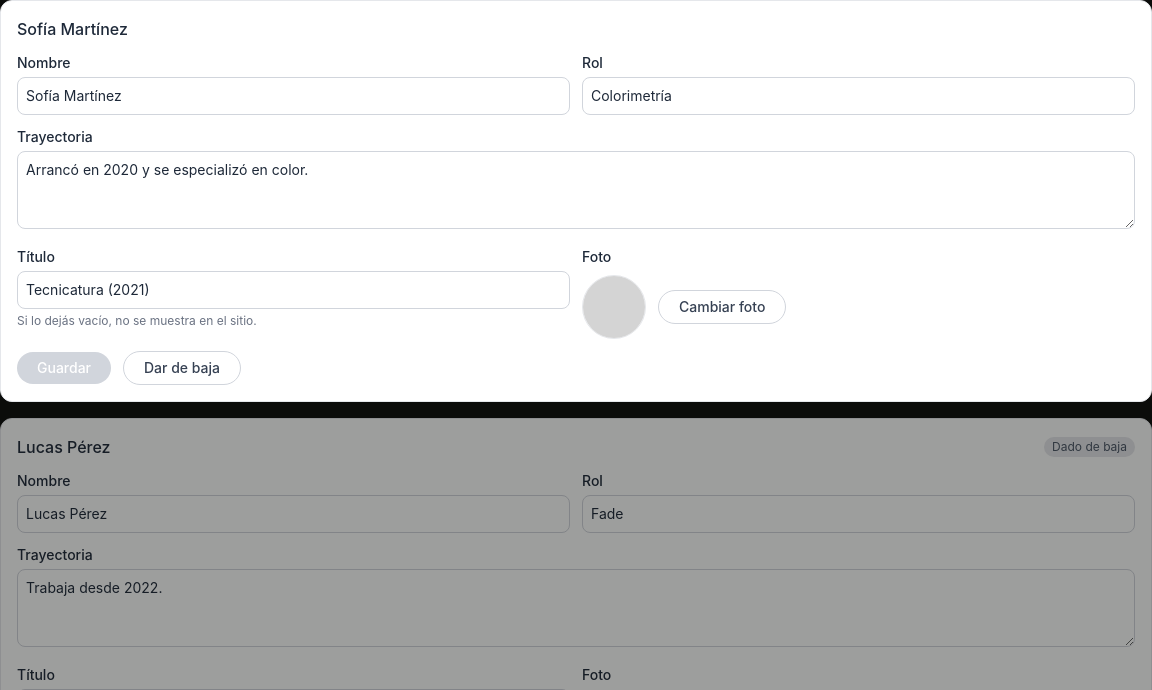
SeccionStaffComponent › guardar un perfil › manda los cinco campos, confirma y deja de ofrecer guardar
The width and height of the screenshot is (1152, 690).
Replace the text in the field labelled "Nombre" below "Sofía Martínez" with "Sofía G. Martínez" at (294, 96), box [17,77,570,115]
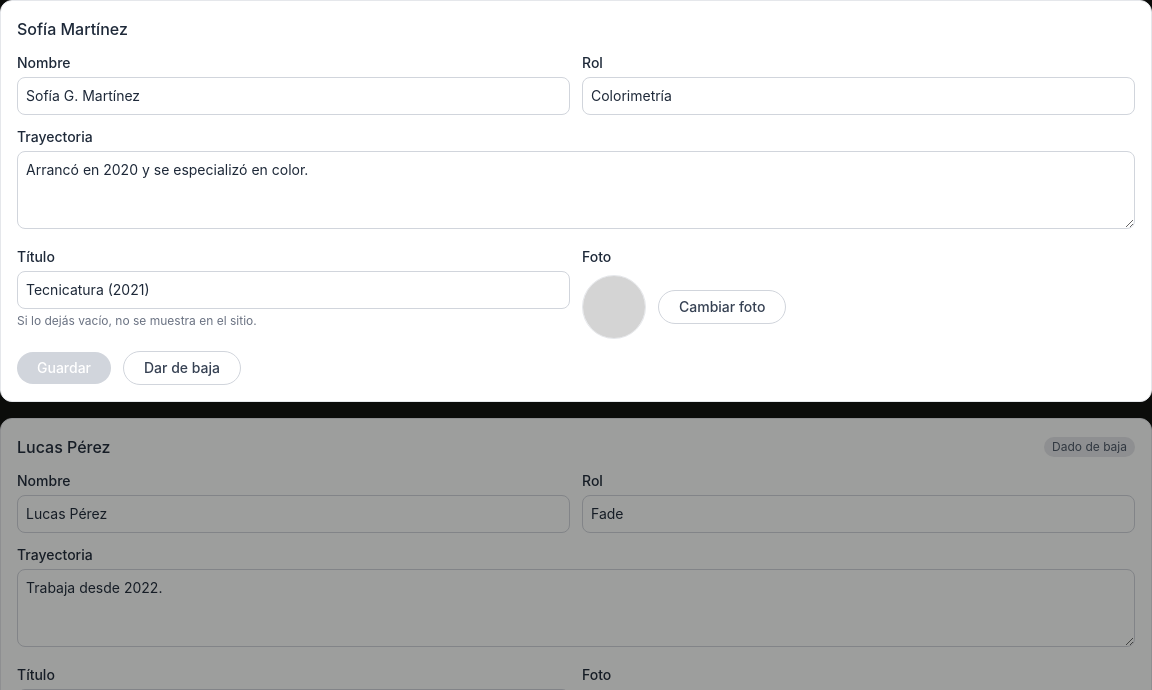
Replace the text in the 1st field labelled "Rol" with "Color y peinado" at (858, 96), box [582,77,1135,115]
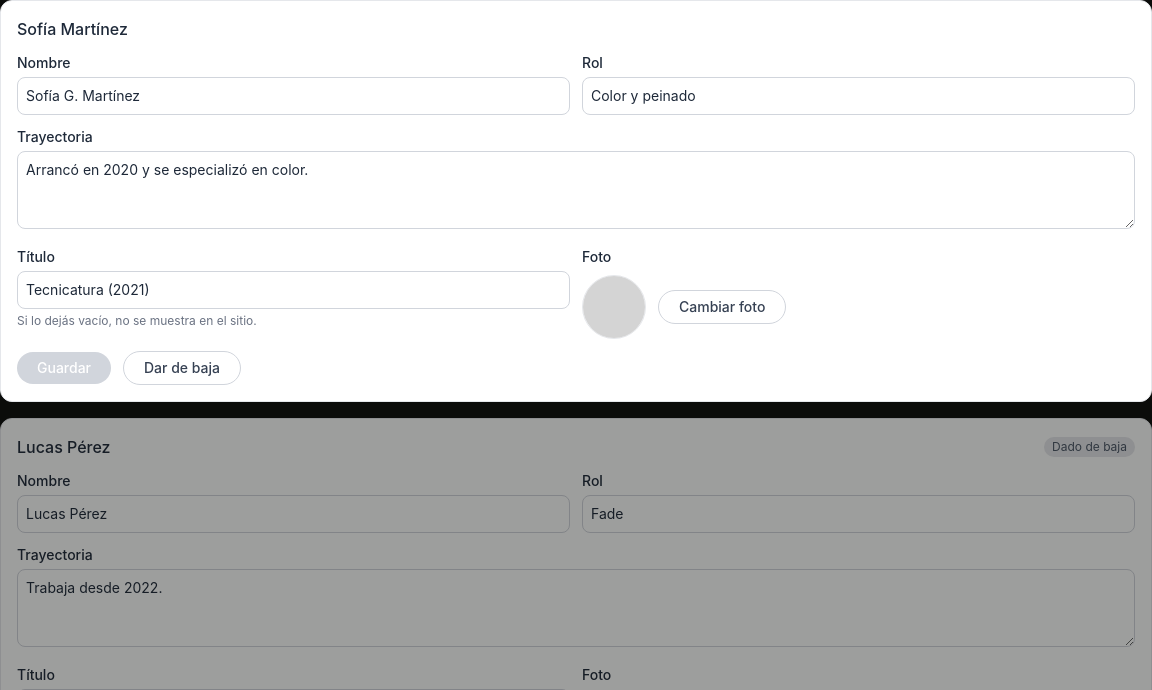
Replace the text in the text box labelled "Trayectoria" below "Sofía Martínez" with "Arrancó en 2020 y hoy dicta talleres de color." at (576, 190), box [17,151,1135,229]
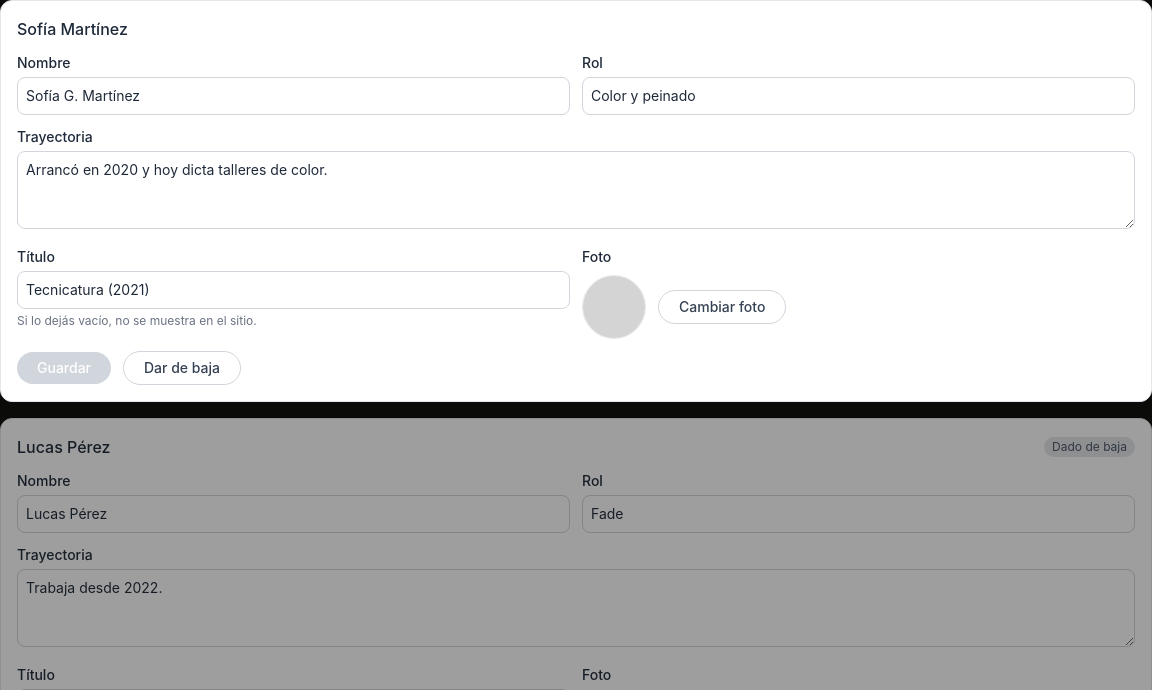
Clear the field labelled "Título" below "Sofía Martínez" at (294, 290), box [17,271,570,309]
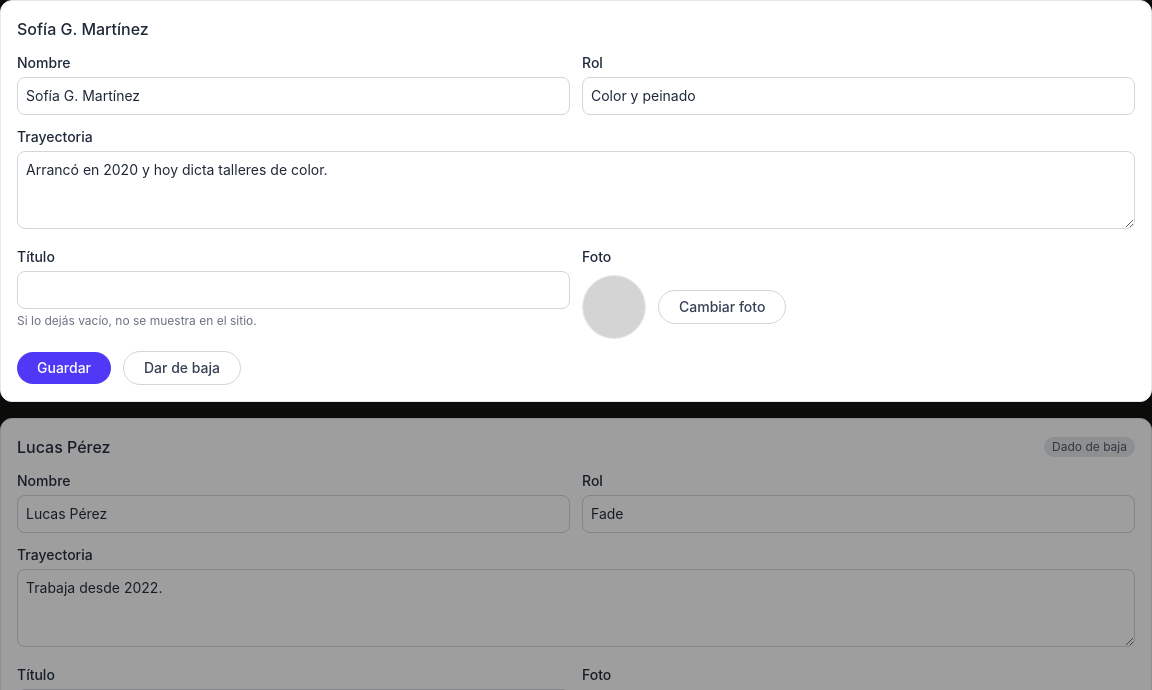
Click the button "Guardar" at (64, 368), box [17,352,111,384]
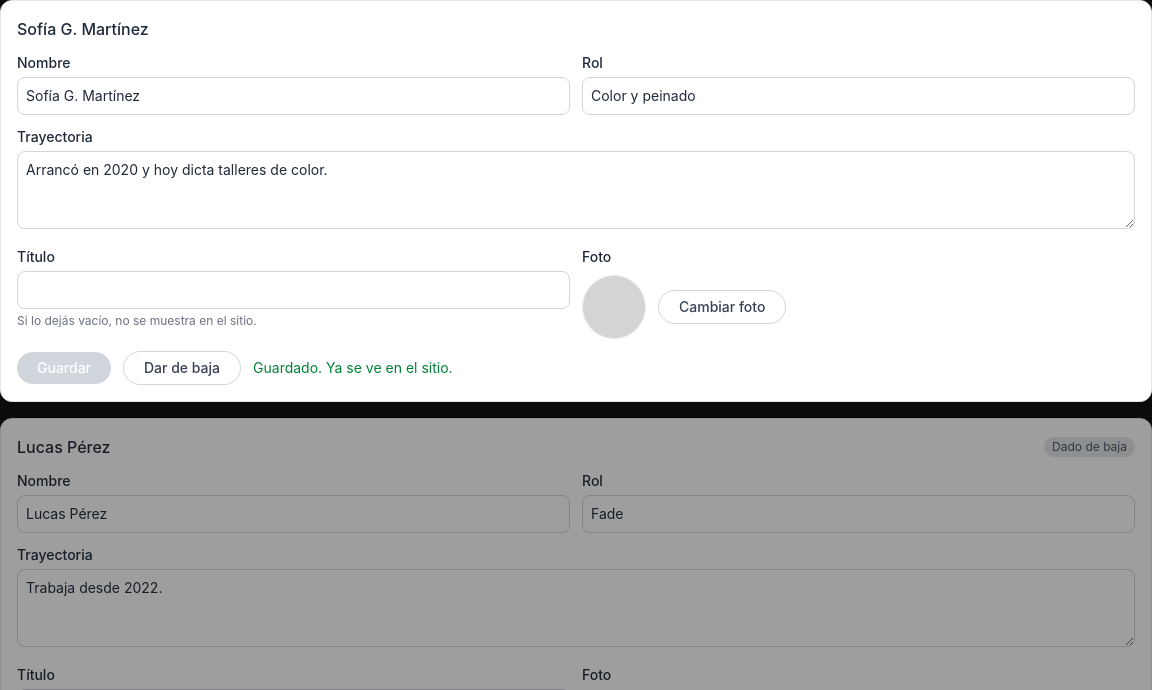
Expected: the list item does not show "Guardado"
Expected: the text "Guardado. Ya se ve en el sitio." is shown, [253,358,452,378]
